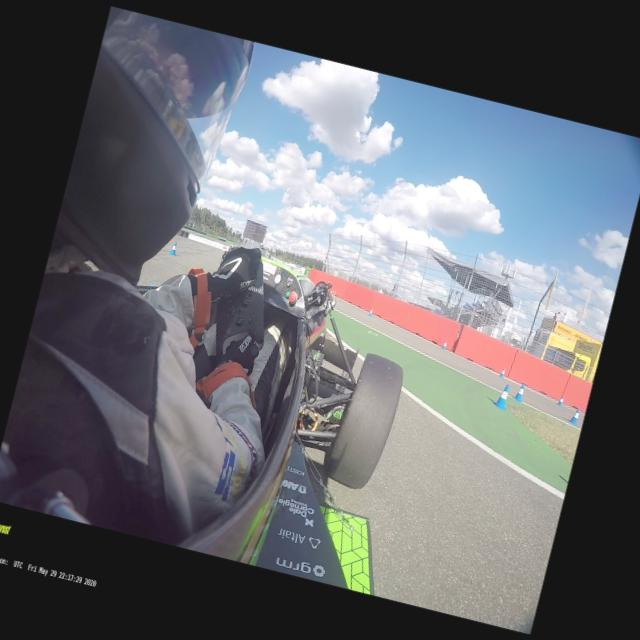blue_cone: (492, 382, 510, 410), (514, 382, 526, 402), (569, 406, 581, 426), (168, 242, 178, 254), (556, 394, 564, 406), (498, 367, 506, 378), (442, 340, 448, 350), (368, 308, 373, 316)
